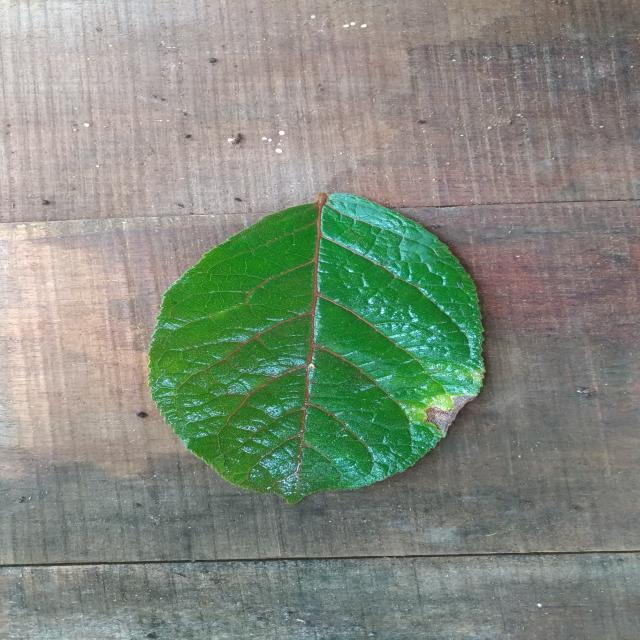padri: (149, 194, 484, 502)
